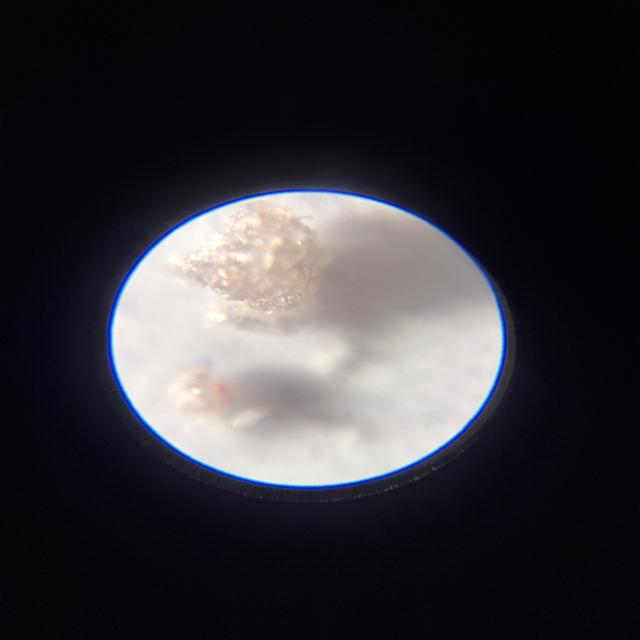microplastic_type_1: (175, 196, 329, 333), (171, 367, 267, 428)
